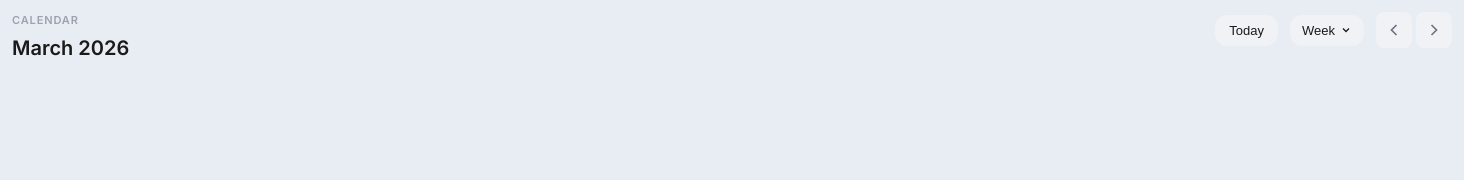
CalendarHeader › opens the view dropdown when the view button is clicked
Click the button "Week". click: (1327,30)
box: x1=1290 y1=14 x2=1364 y2=46
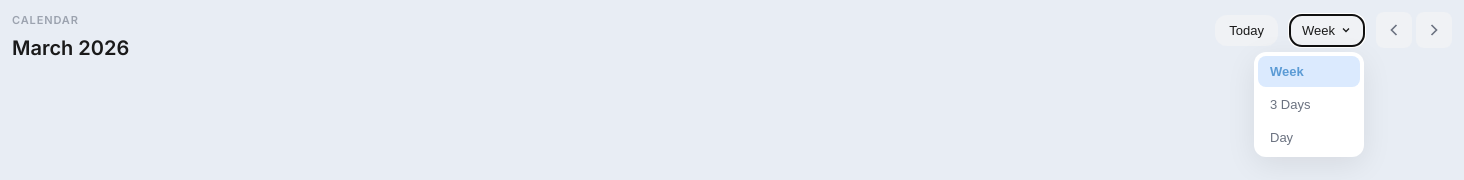
Result: the button "3 Days" is shown at x1=1258 y1=88 x2=1360 y2=120
Result: the button "Day" is shown at x1=1258 y1=122 x2=1360 y2=152
